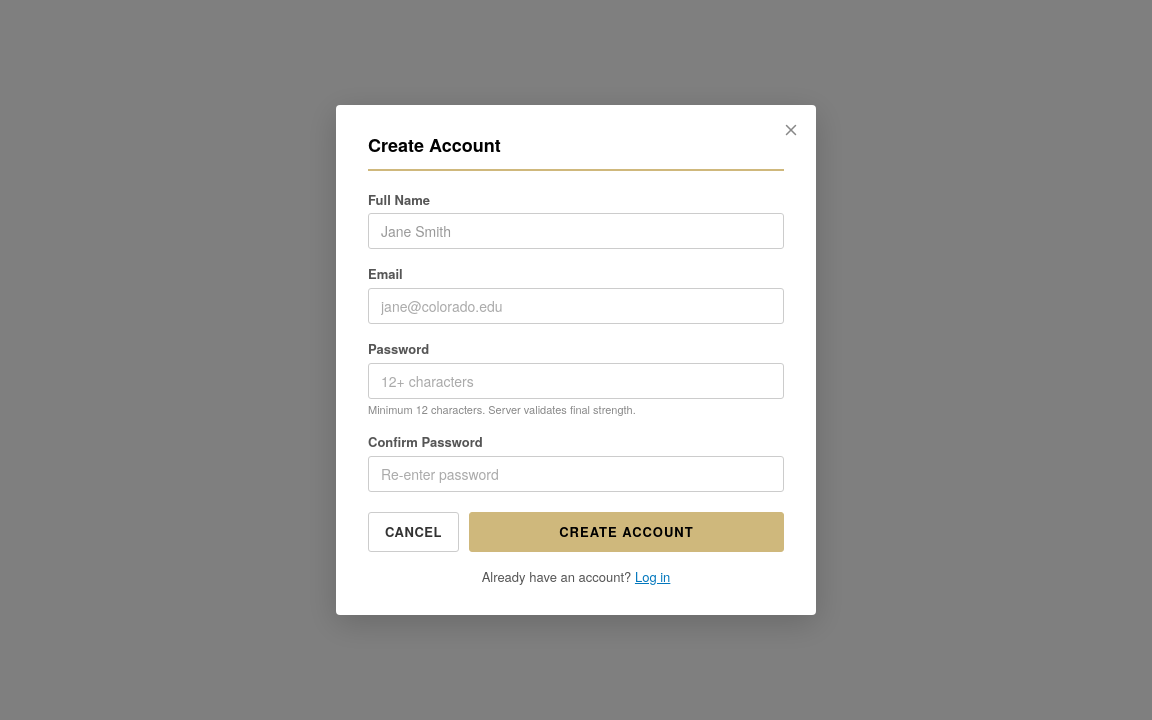
Test: RegisterModal › shows password strength indicator when password is non-empty
This screenshot has width=1152, height=720.
Type "short" into the password field with id "reg-password" at (576, 380), box [368,362,784,398]
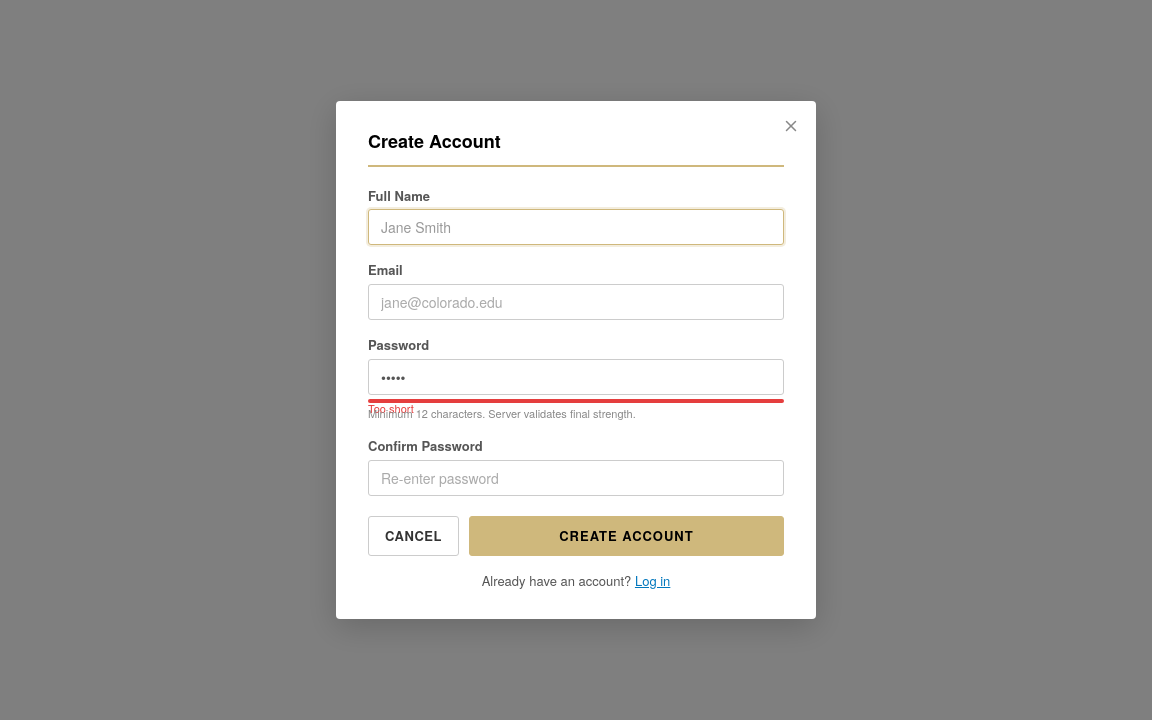
Expected: the text "Too short" is shown, [368,398,784,402]
